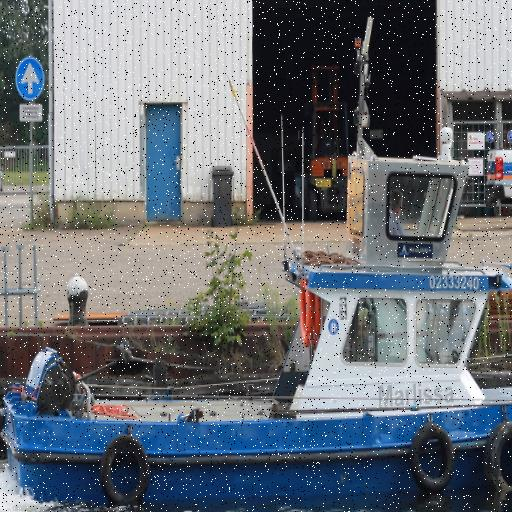tugboat: (1, 141, 512, 512)
